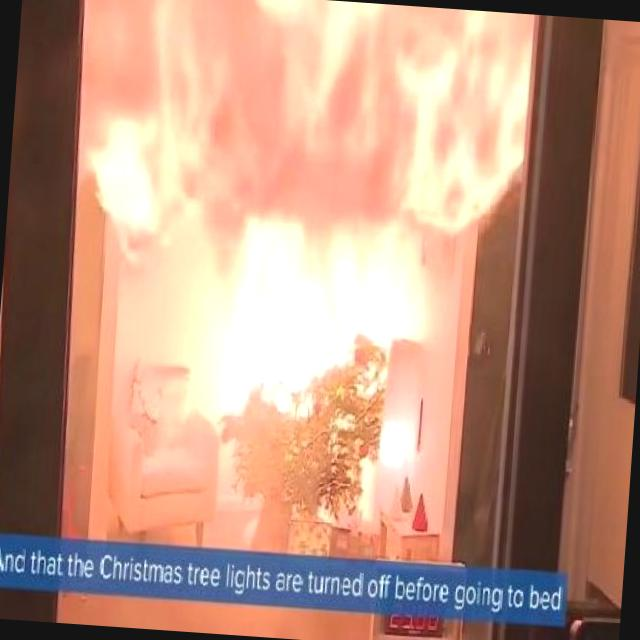fire: (62, 0, 538, 431)
